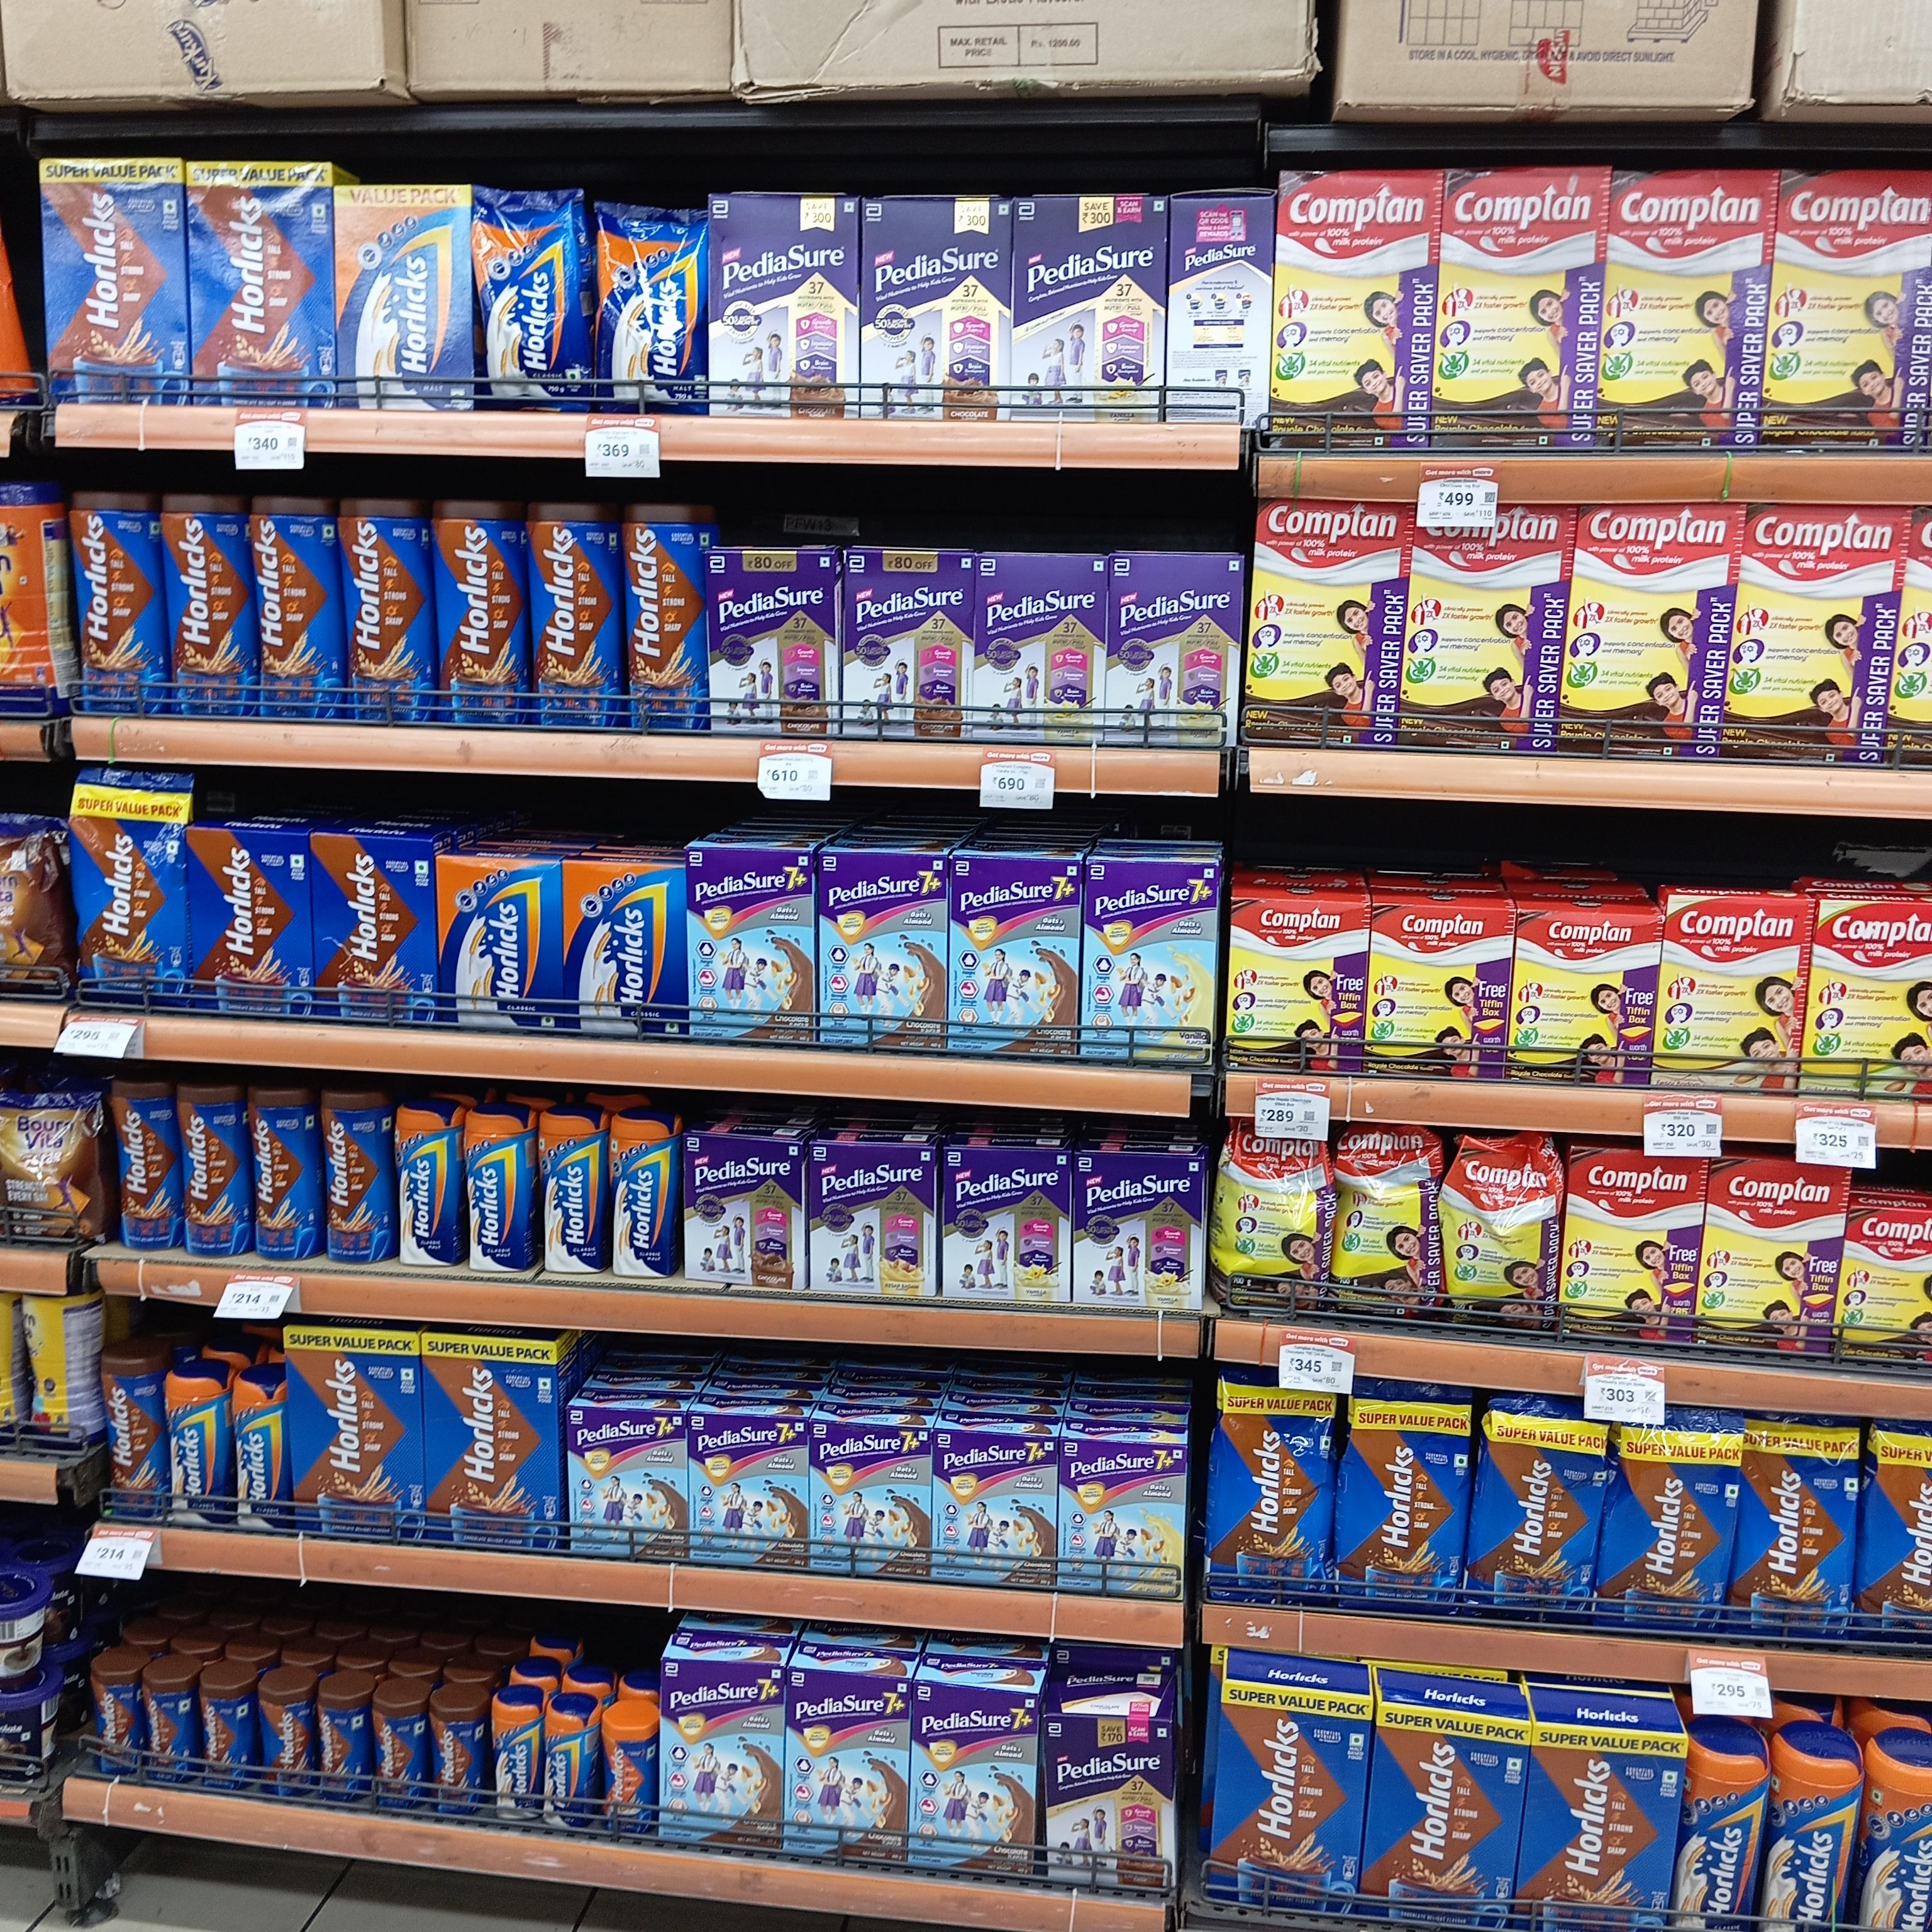COMPLAN_CHOCOLATE_1_KG_PACK: (1773, 166, 1932, 451), (1442, 168, 1599, 446), (1277, 173, 1433, 453), (1608, 173, 1762, 451), (1736, 502, 1891, 768), (1569, 501, 1725, 764), (1251, 497, 1403, 750), (1414, 504, 1564, 754), (1560, 1145, 1700, 1357), (1709, 1157, 1836, 1357)
COMPLAN_CHOCOLATE_500_GMS_PACK: (1513, 904, 1649, 1088), (1231, 893, 1364, 1077), (1369, 904, 1504, 1085), (1838, 1203, 1932, 1369)
COMPLAN_KESAR_BADAM_500_GMS_PACK: (1667, 893, 1806, 1093)
COMPLAN_PISTA_BADAM_500_GMS_PACK: (1812, 895, 1932, 1099)
COMPLAN_RC_POUCH_700_GMS_12: (1445, 1136, 1555, 1339), (1332, 1123, 1438, 1327), (1226, 1131, 1323, 1313)
HORLICK_CHOCOLATE_1_KG_JAR: (525, 499, 614, 732), (69, 485, 156, 720), (161, 490, 249, 718), (253, 490, 340, 722), (433, 497, 520, 729), (625, 502, 708, 732), (343, 494, 425, 725)
HORLICK_CHOCOLATE_1_KG_PACK: (1371, 1702, 1527, 1932), (1212, 1683, 1357, 1928), (189, 159, 329, 409), (42, 159, 184, 405), (1532, 1725, 1681, 1932), (287, 1325, 419, 1539), (421, 1336, 554, 1548)
HORLICK_CHOCOLATE_200_G_JAR: (432, 1700, 487, 1826), (198, 1675, 251, 1799), (373, 1693, 426, 1815), (318, 1684, 370, 1808), (262, 1683, 311, 1805), (142, 1672, 193, 1787), (92, 1663, 136, 1782)
HORLICK_CHOCOLATE_500_G_JAR: (322, 1085, 389, 1267), (177, 1079, 244, 1261), (108, 1077, 175, 1254), (96, 1343, 161, 1522), (251, 1090, 311, 1261)
HORLICK_CHOCOLATE_500_G_PACK: (188, 828, 310, 1021), (315, 837, 432, 1030)
HORLICK_CHOCOLATE_750_G_POUCH: (1345, 1376, 1467, 1617), (1739, 1408, 1859, 1645), (1214, 1371, 1336, 1601), (71, 771, 186, 1010), (1483, 1398, 1603, 1626), (1619, 1414, 1737, 1638), (1865, 1421, 1932, 1656)
HORLICK_CLASSIC_MALT_200_G_JAR: (490, 1688, 538, 1822), (545, 1702, 589, 1829)
HORLICK_CLASSIC_MALT_500_G_JAR: (1771, 1741, 1856, 1932), (1686, 1752, 1767, 1932), (1865, 1748, 1932, 1932), (607, 1113, 678, 1281), (536, 1106, 605, 1274), (163, 1368, 228, 1530), (465, 1102, 527, 1274), (395, 1104, 456, 1270), (234, 1362, 283, 1534)
HORLICK_CLASSIC_MALT_500_G_PACK: (340, 186, 474, 414), (435, 856, 564, 1031), (568, 862, 683, 1040)
HORLICK_CLASSIC_MALT_750_G_POUCH: (479, 182, 587, 412), (600, 203, 704, 416)
PEDIASURE_7_PLUS_CHOCOLATE_400_G_PACK: (950, 856, 1077, 1060), (819, 855, 947, 1053), (686, 853, 814, 1049), (810, 1422, 929, 1578), (936, 1433, 1056, 1582), (568, 1408, 686, 1559), (692, 1412, 805, 1568)
PEDIASURE_CHOCOLATE_500_G_PACK: (709, 195, 855, 421), (862, 200, 1008, 416), (708, 552, 837, 740), (1044, 1718, 1173, 1895), (846, 550, 966, 740), (686, 1134, 798, 1292)
PEDIASURE_VANILLA_500_G_PACK: (1016, 198, 1162, 423), (1109, 556, 1238, 750), (977, 556, 1104, 747), (941, 1148, 1070, 1304), (812, 1141, 936, 1299), (1077, 1154, 1201, 1304)
